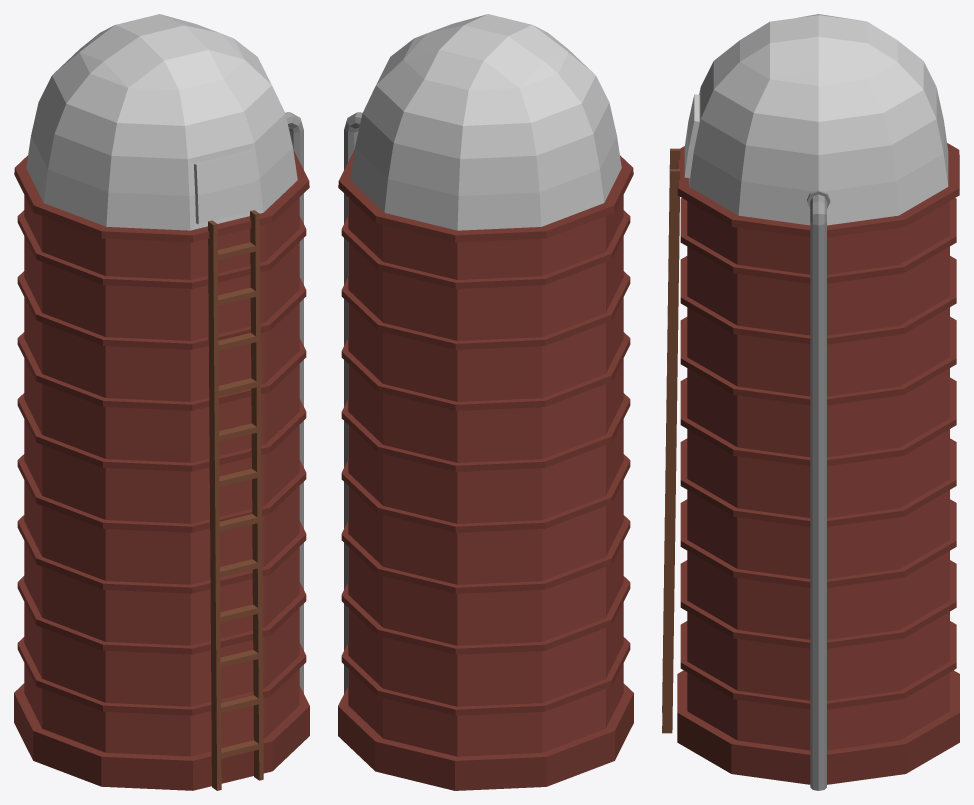
The model's file is Silo.glb.
3 views of the same model, side by side, from view 1: azimuth 30°, elevation 25°; view 2: azimuth 150°, elevation 25°; view 3: azimuth 270°, elevation 25° (orthographic).
Visible parts, largest first — view 1: LightRed, White, DarkRed, Brown, Grey; view 2: LightRed, White, DarkRed, Grey; view 3: LightRed, White, DarkRed, Grey, Brown.
Boxes of the visible parts, box(x1,y1,x2,y2) form: LightRed: box(24, 195, 299, 756); White: box(26, 14, 297, 230); DarkRed: box(14, 150, 309, 790); Brown: box(208, 210, 263, 790); Grey: box(285, 112, 303, 693); LightRed: box(348, 195, 623, 756); White: box(350, 14, 621, 230); DarkRed: box(338, 150, 633, 790); Grey: box(344, 112, 362, 693); LightRed: box(687, 201, 949, 750); White: box(684, 14, 948, 225); DarkRed: box(677, 143, 959, 784); Grey: box(807, 190, 830, 790); Brown: box(662, 148, 680, 733).
Bounding box in the file's own units: 3.67 × 9.07 × 3.51.
